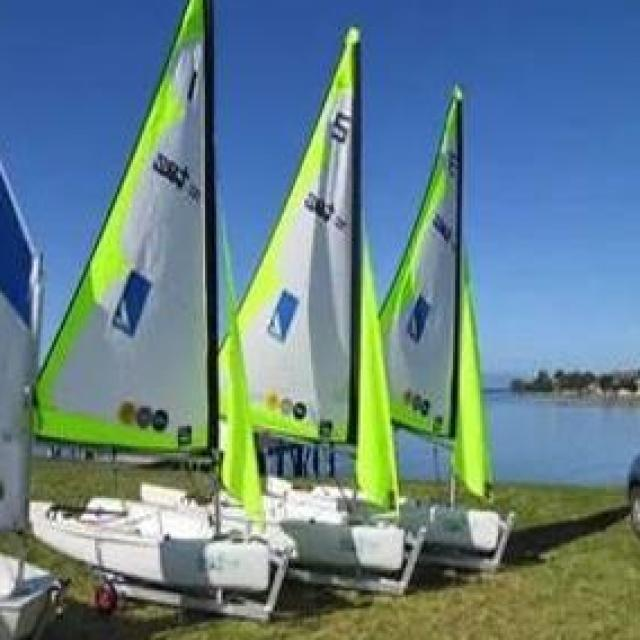sailboat: (27, 0, 288, 611), (185, 27, 424, 601), (359, 86, 517, 560)
